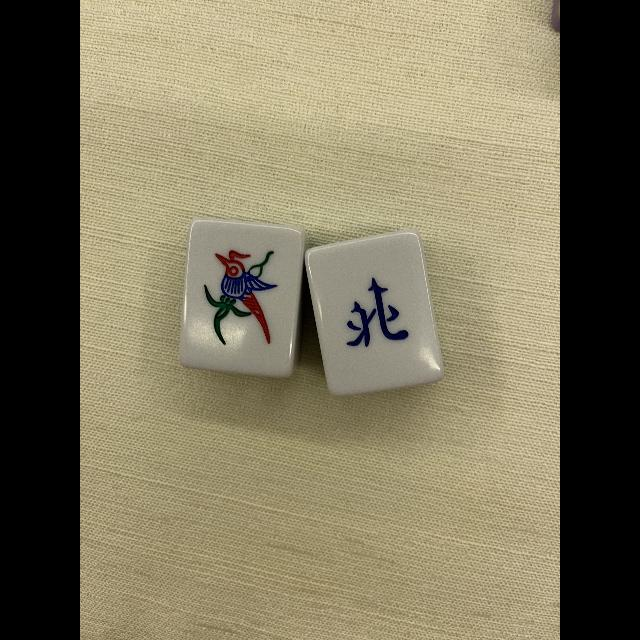b1: (186, 223, 296, 369)
wn: (321, 240, 432, 386)
